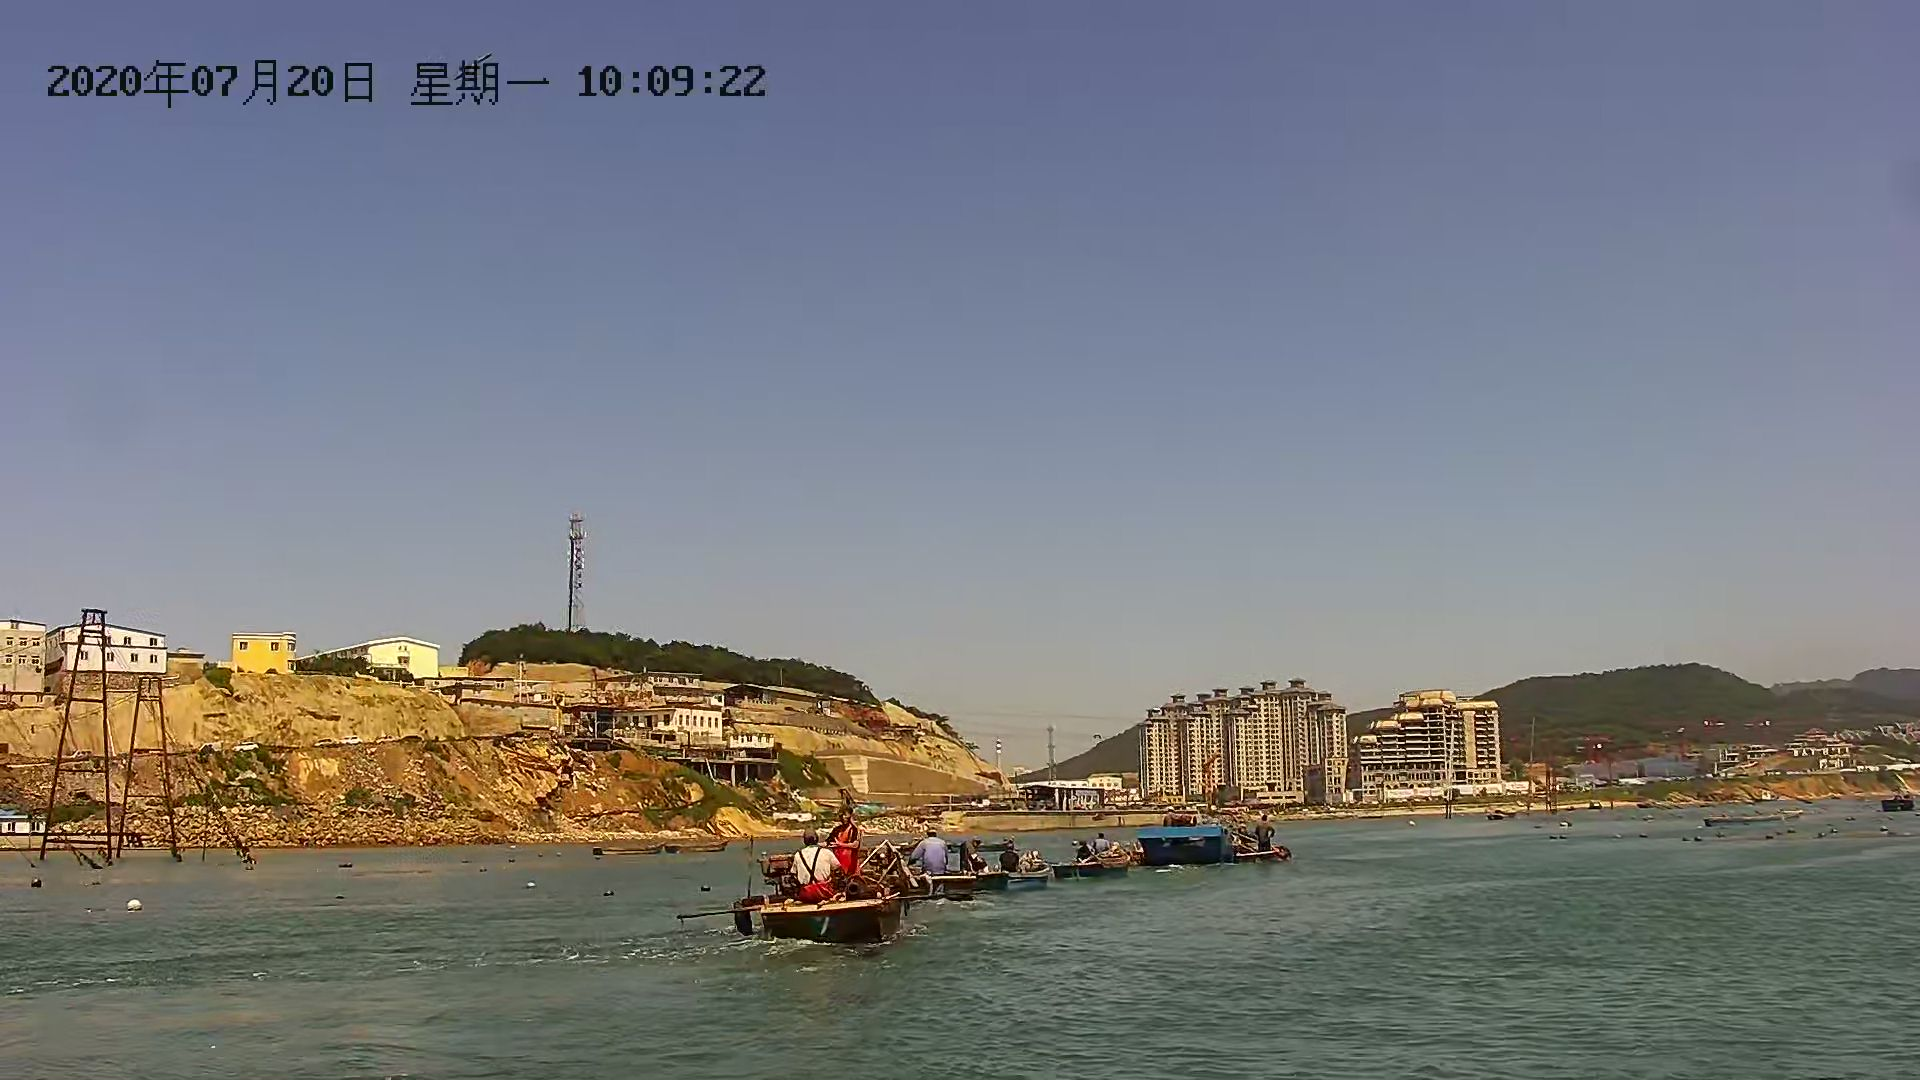boat: (757, 892, 907, 949), (896, 875, 980, 904), (1698, 811, 1811, 829), (1225, 844, 1292, 873), (968, 867, 1053, 889), (1050, 856, 1131, 877), (588, 842, 663, 858), (664, 840, 728, 855)
mast: (45, 608, 114, 864), (111, 674, 185, 860)
person: (793, 830, 831, 901), (831, 807, 861, 888), (915, 829, 948, 879), (996, 840, 1019, 870)
platform: (1131, 823, 1226, 867)
